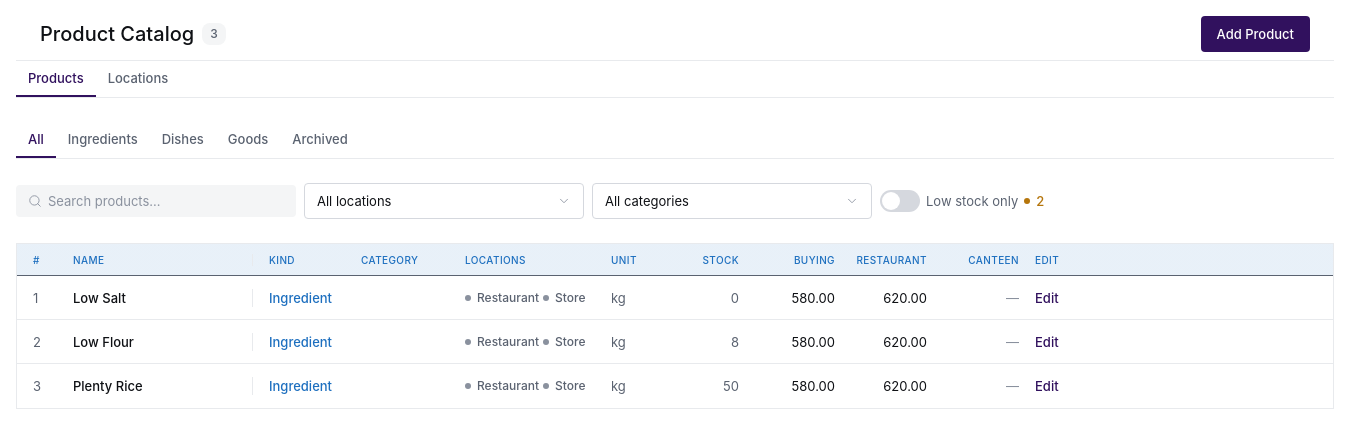
Test case: /admin/catalog — kit composition › the 'Low stock only' toggle narrows to rows at or below their threshold (or zero, if unset), client-side
The image size is (1351, 426).
Expected: the text "Low Salt" is shown, 73,288 -> 126,306
Expected: the text "Low Flour" is shown, 73,332 -> 134,350
Step 1. Click the switch named "Low stock only" → [900, 201], box 880,190 -> 920,212
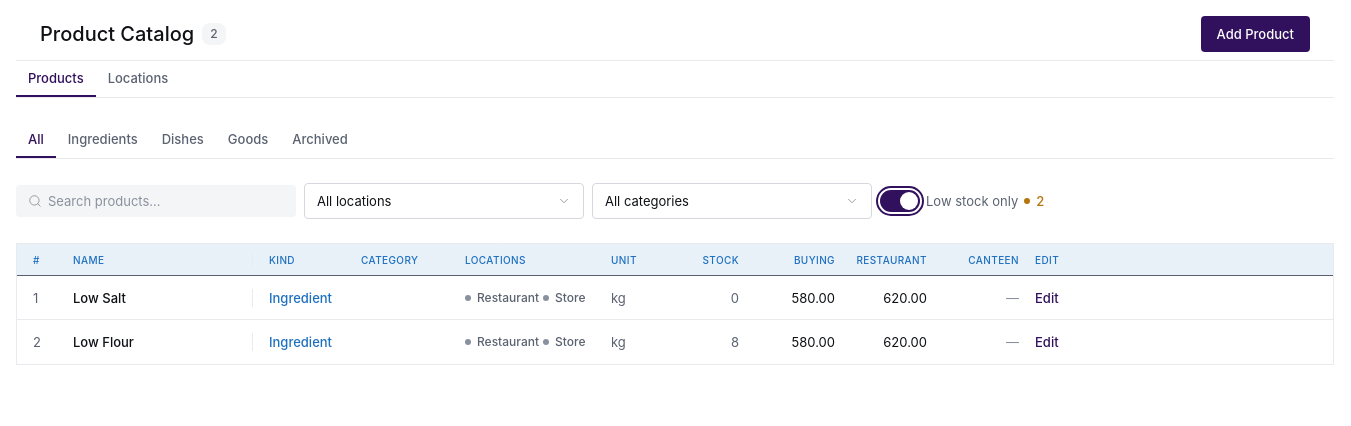
Expected: the text "Low Salt" is shown, 73,288 -> 126,306
Expected: the text "Plenty Rice" is gone
// Toggling back off restores the full set.
Step 2. Click the switch named "Low stock only" → [900, 201], box 880,190 -> 920,212
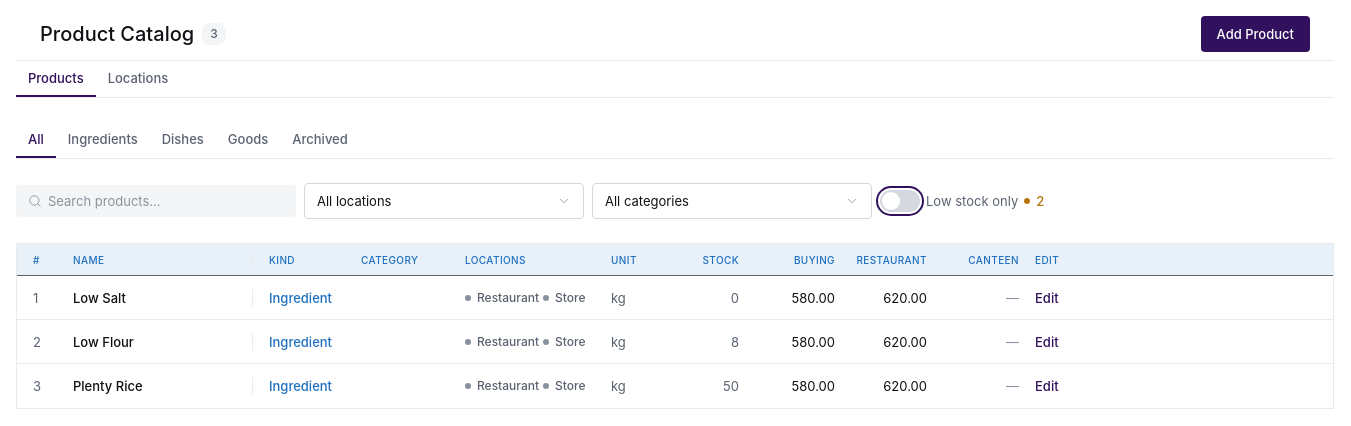
Expected: the text "Plenty Rice" is shown, 73,377 -> 142,395
